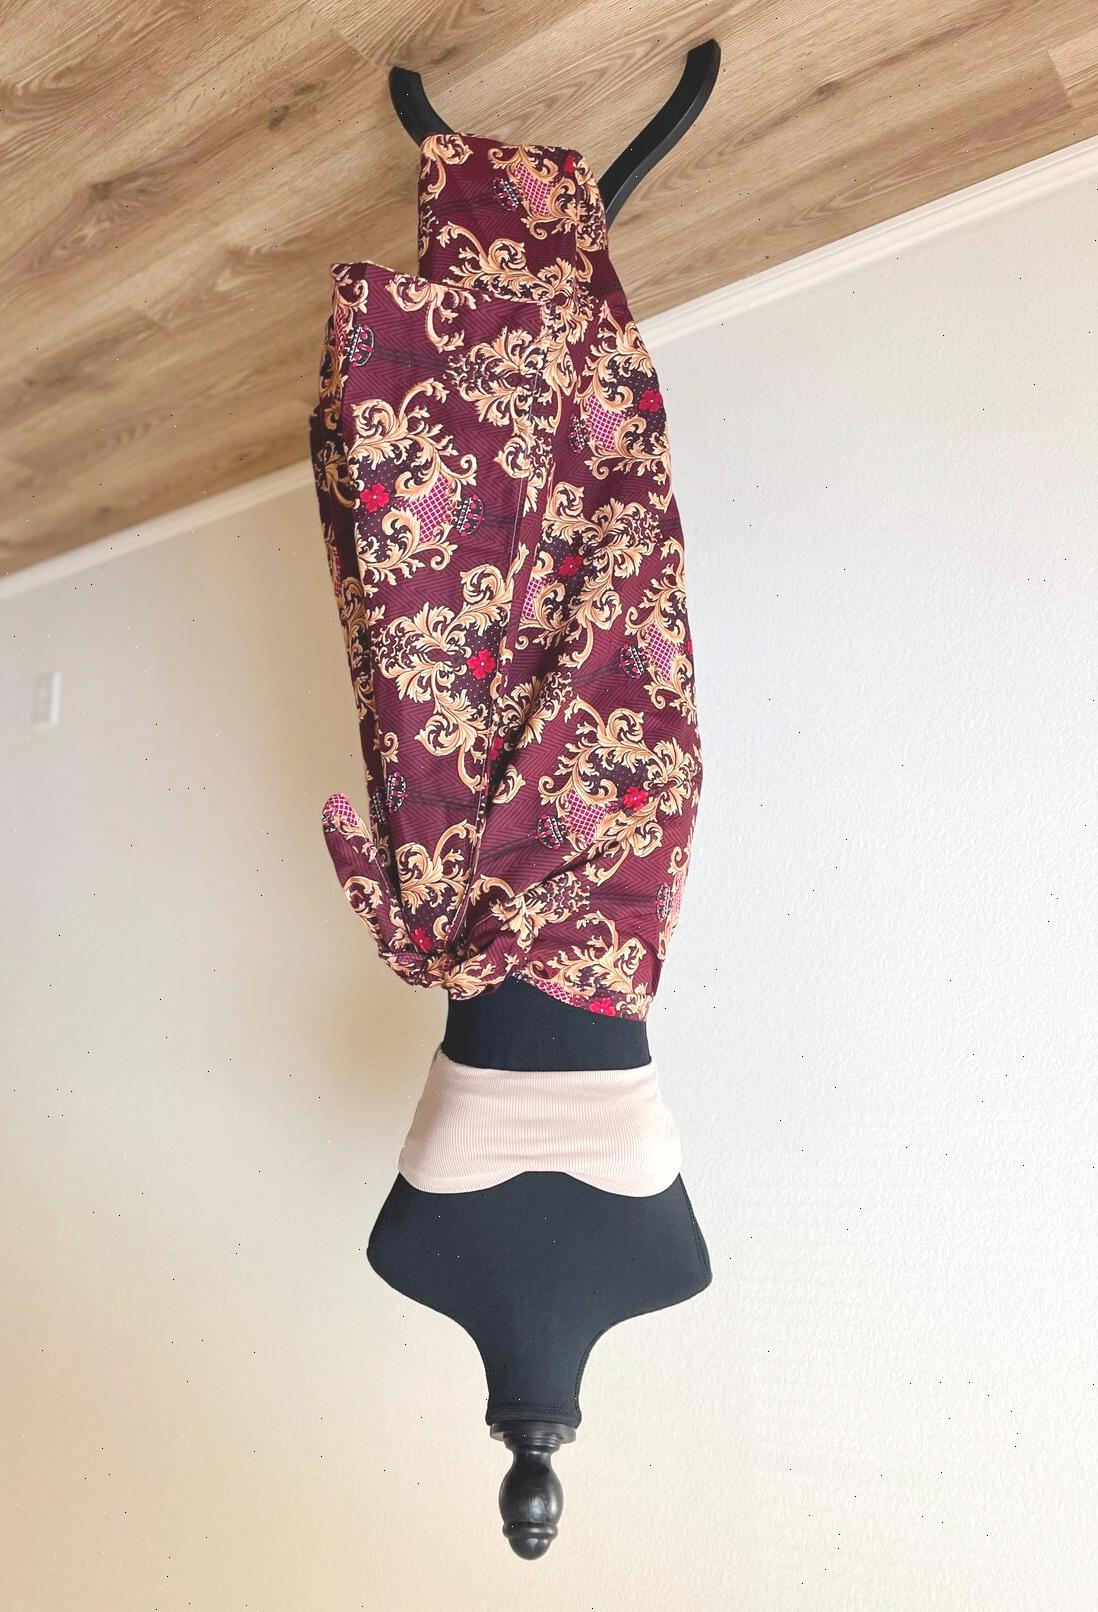malong: (312, 125, 750, 1038)
